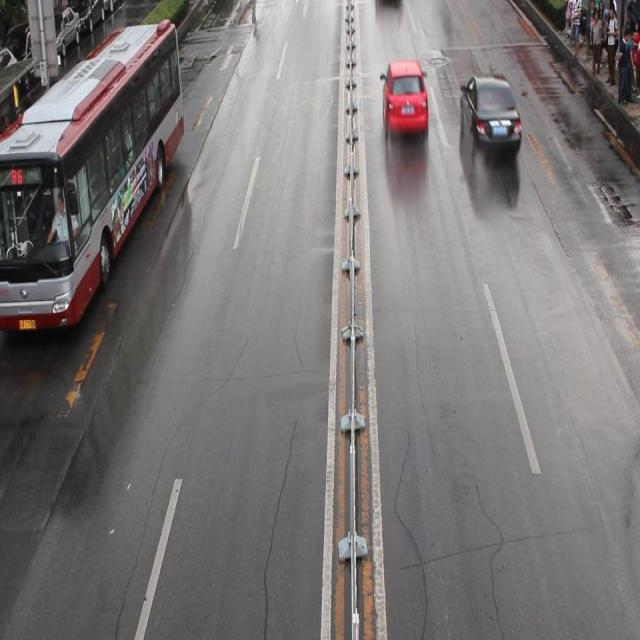car: (459, 74, 520, 156), (380, 60, 428, 136)
van: (1, 20, 183, 332)
